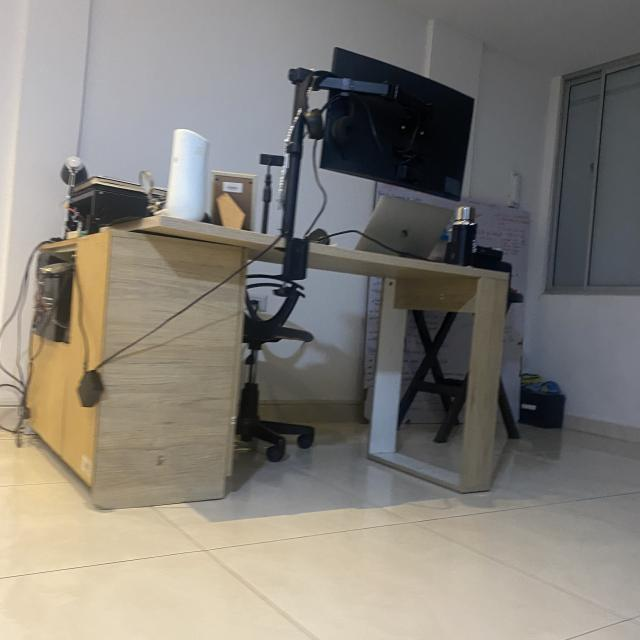obstacle: (2, 66, 533, 512)
